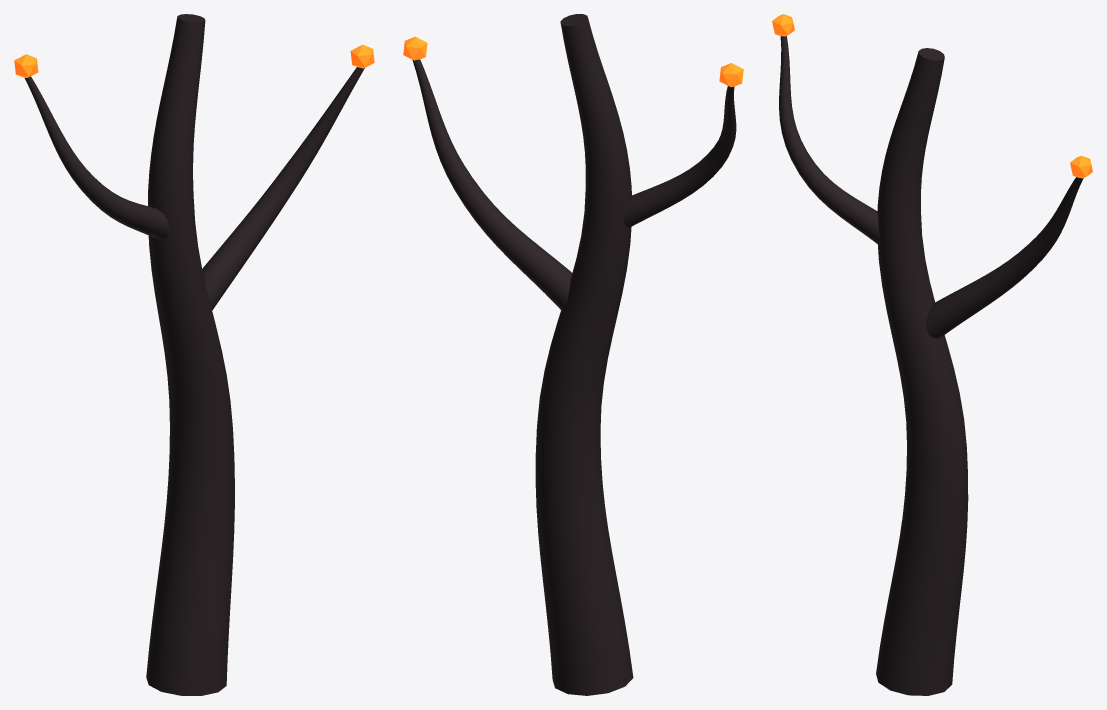
File: trans_dead_tree.glb
The picture shows the model from 3 angles, left to right: view 1: azimuth 30°, elevation 25°; view 2: azimuth 150°, elevation 25°; view 3: azimuth 330°, elevation 25°; orthographic projection. The views are drawn at different scales.
Visible parts, largest first — view 1: trans_dead_tree; view 2: trans_dead_tree; view 3: trans_dead_tree.
Boxes of the visible parts, left/top/right/bottom form: trans_dead_tree: left=14, top=14, right=374, bottom=695; trans_dead_tree: left=403, top=14, right=743, bottom=695; trans_dead_tree: left=772, top=14, right=1092, bottom=695.
Size of the model in its own units: 0.8837 by 1.61 by 0.1817.
